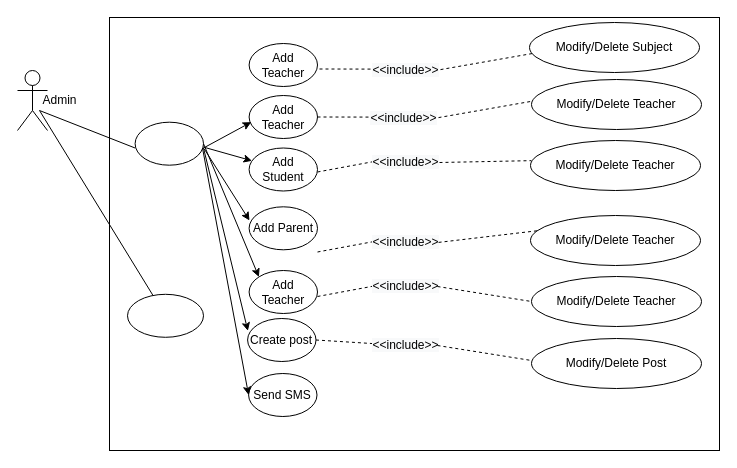
The diagram is 737 pixels wide and 468 high, and some of its shapes have lost their labels. Each missing label, with the centre of its shape:
"Actor" goes at pixel 32 100.
"Login" goes at pixel 169 143.
"Logout" goes at pixel 165 315.
